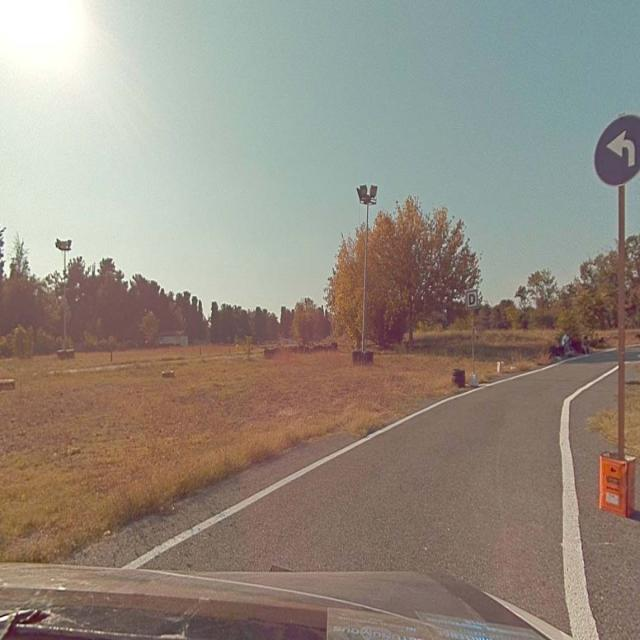durak: (467, 291, 478, 306)
sol: (595, 114, 640, 186)
